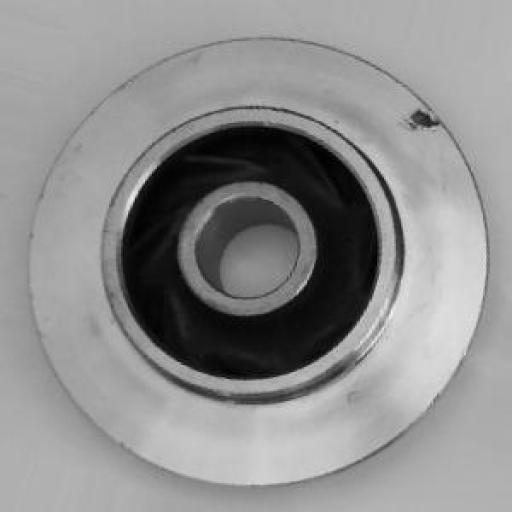defect: (372, 72, 478, 172)
